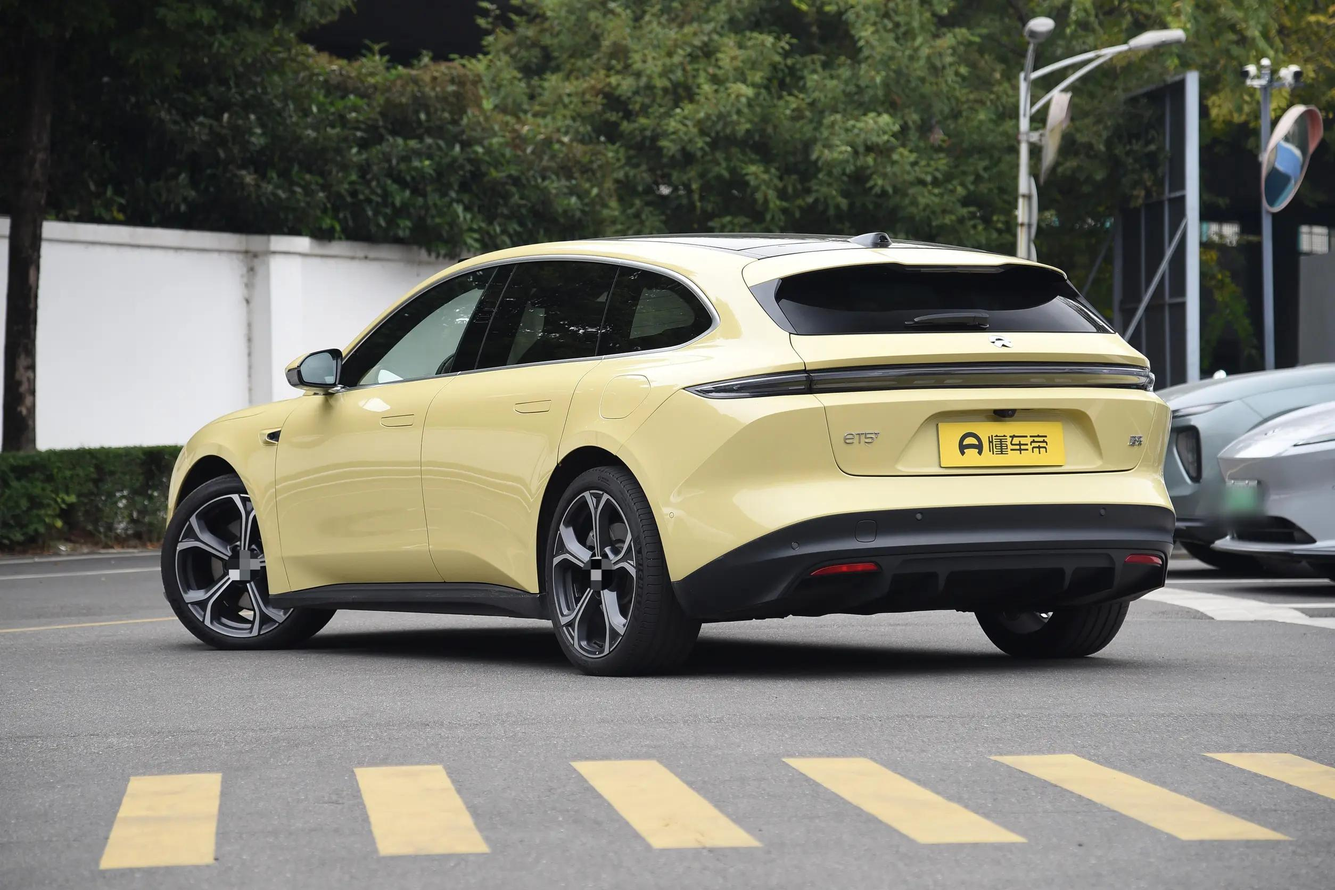NIO: (989, 334, 1012, 348)
